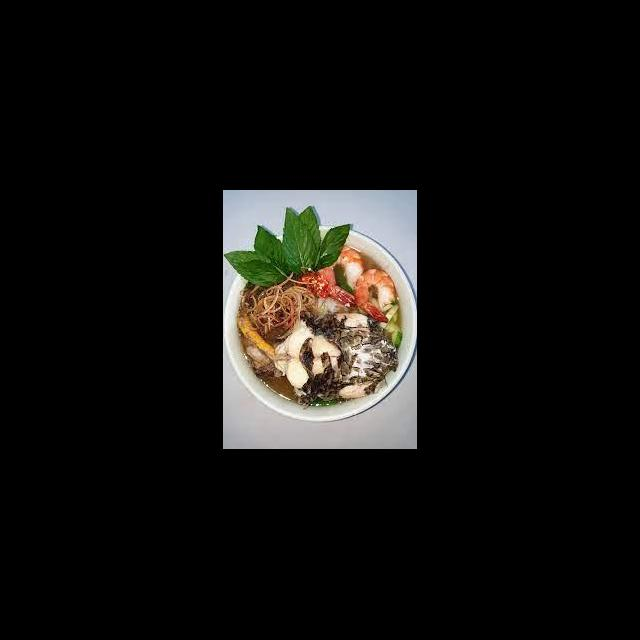tom: (314, 242, 367, 310), (352, 266, 399, 326)
